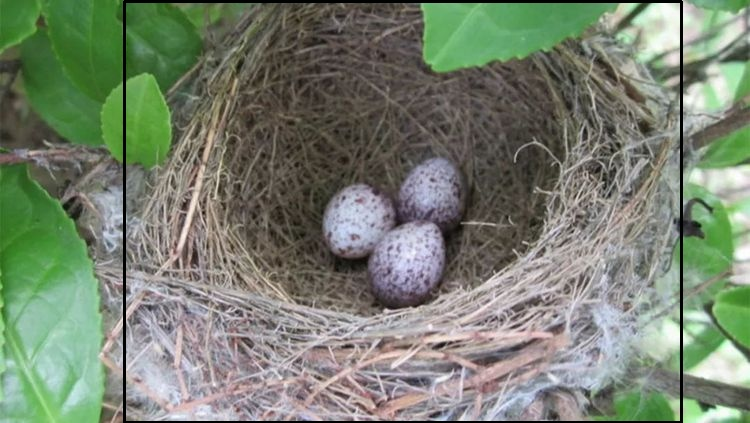bird-nest: (192, 1, 681, 392)
